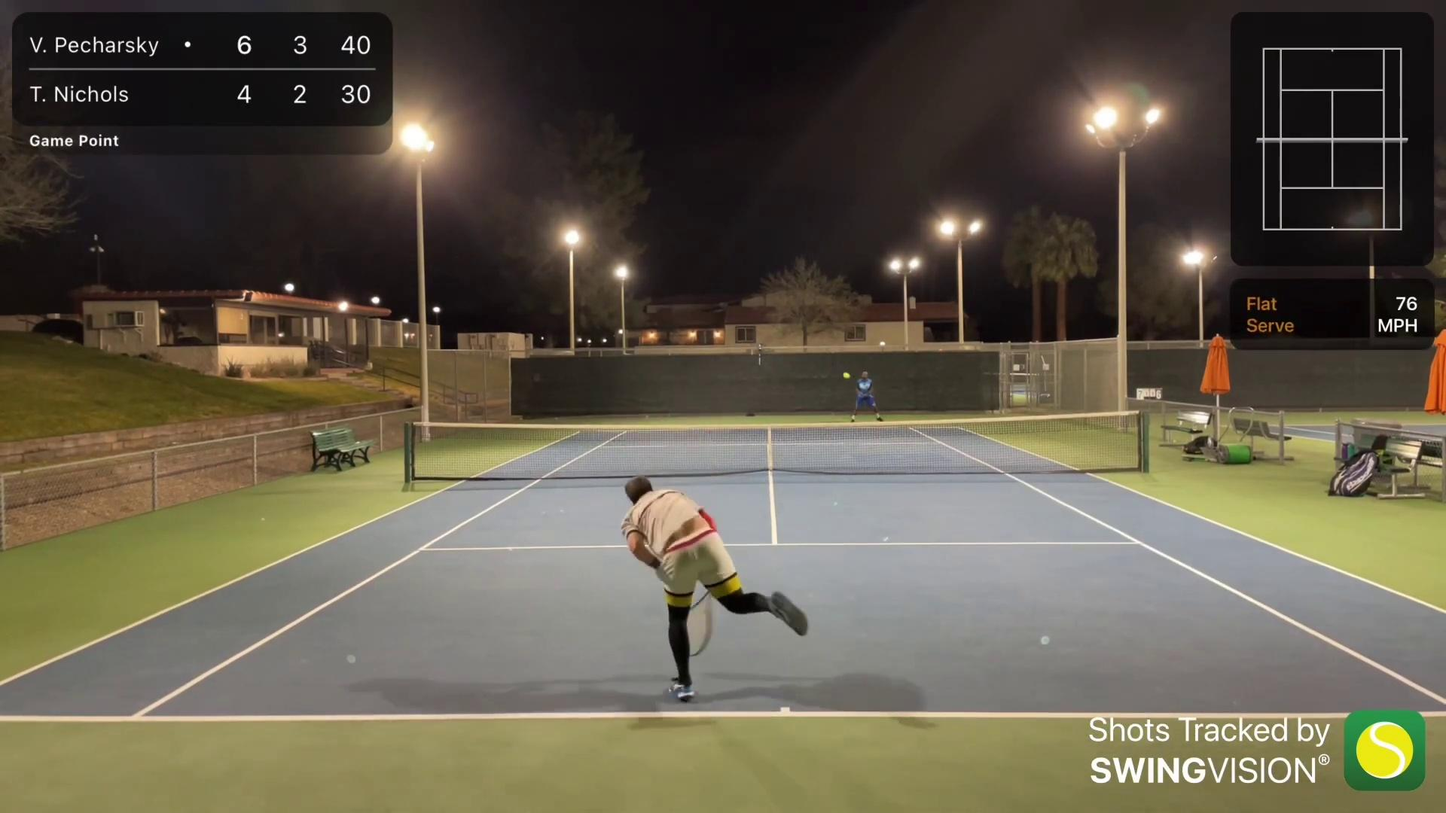ball: (845, 374, 851, 379)
